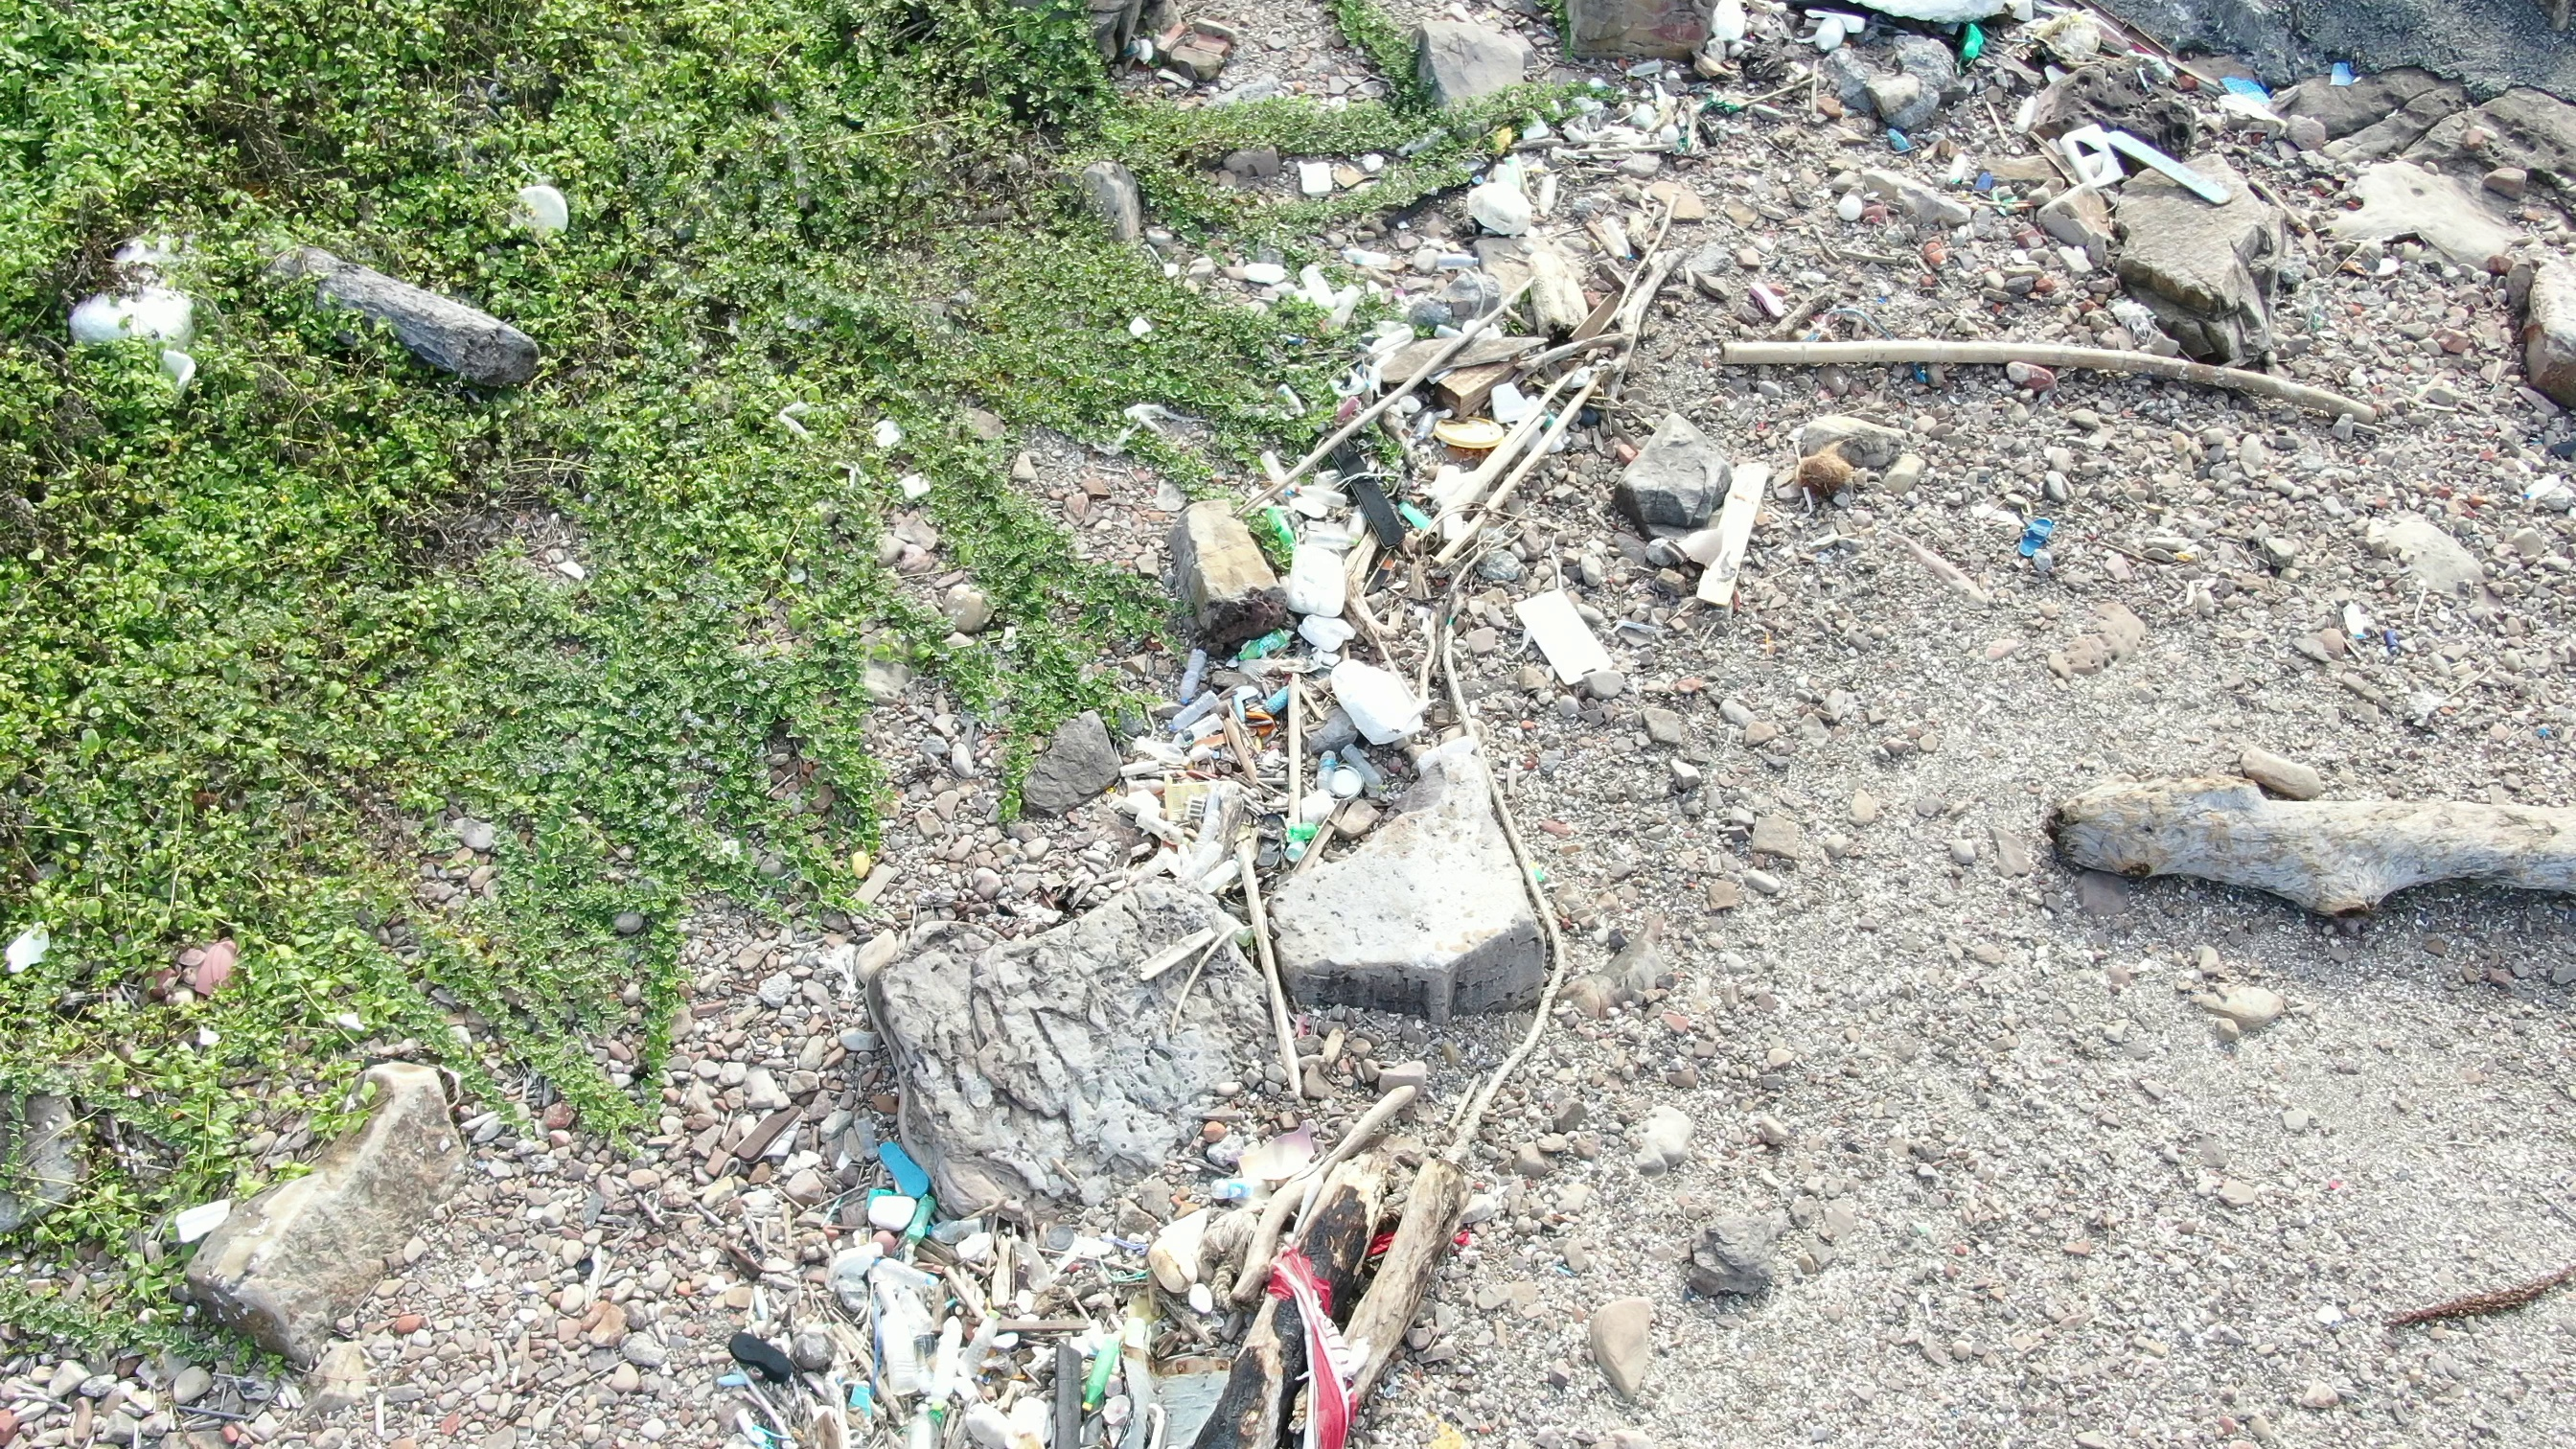garbage: (1201, 57, 1730, 602), (1159, 598, 1435, 869), (1228, 1212, 1500, 1449), (709, 1327, 924, 1442), (1695, 2, 2020, 67), (1499, 571, 1619, 697), (2020, 106, 2155, 214), (853, 1123, 948, 1253), (1067, 1299, 1141, 1449), (2213, 73, 2275, 142), (2005, 504, 2065, 571), (2321, 46, 2362, 103)
